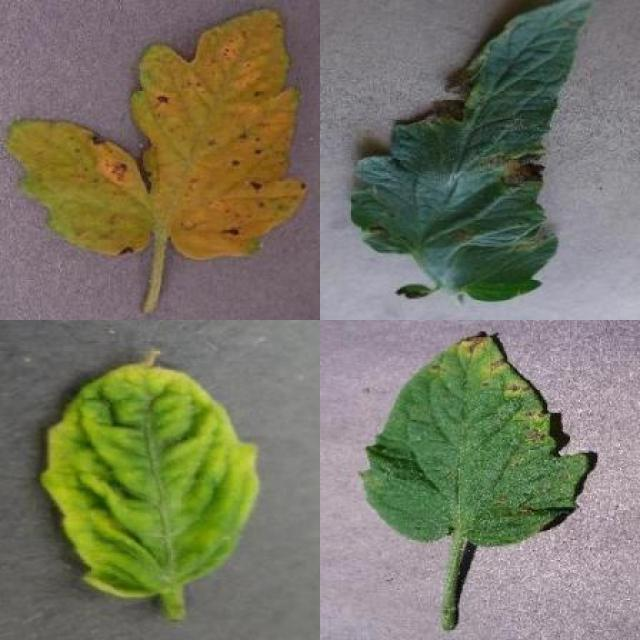Early Blight: (352, 1, 594, 302)
Septoria: (7, 7, 309, 263), (358, 332, 588, 548)
Yellow Leaf Curl Virus: (43, 350, 260, 600)
